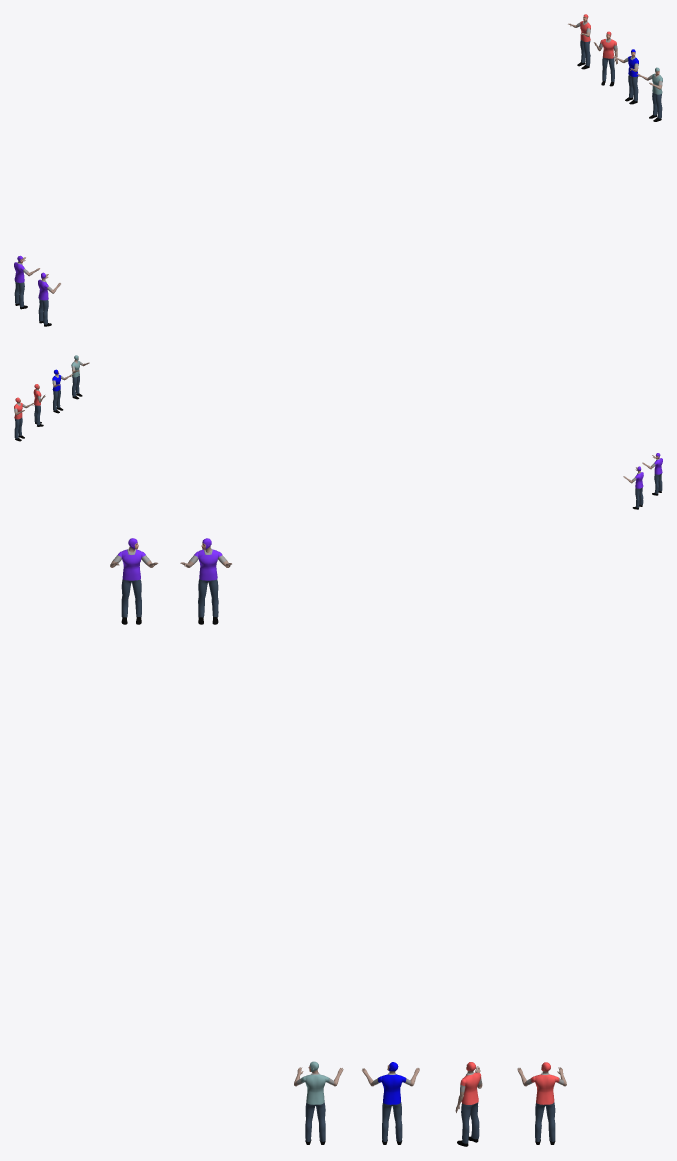
Rendered from CVE_crew.glb.
3 renders of one model, top to bottom at view 1: azimuth 30°, elevation 25°; view 2: azimuth 150°, elevation 25°; view 3: azimuth 270°, elevation 25°, orthographic. The views are drawn at different scales.
Visible parts, largest first — view 1: no part large enough to name; view 2: crew_purple, crew_purple.001; view 3: crew_purple, crew_red.001, crew_purple.001, crew_green, crew_blue, crew_red.
Boxes of the visible parts, bbox=[...] form: crew_purple: bbox=[635, 472, 643, 507]; crew_purple.001: bbox=[654, 458, 662, 493]; crew_purple: bbox=[198, 549, 218, 617]; crew_red.001: bbox=[535, 1074, 555, 1141]; crew_purple.001: bbox=[121, 549, 141, 617]; crew_green: bbox=[305, 1074, 325, 1141]; crew_blue: bbox=[382, 1074, 402, 1141]; crew_red: bbox=[461, 1072, 480, 1143].
Size of the model in its own units: 82.13 by 5.92 by 29.83.
10 materials, 1 textured.
